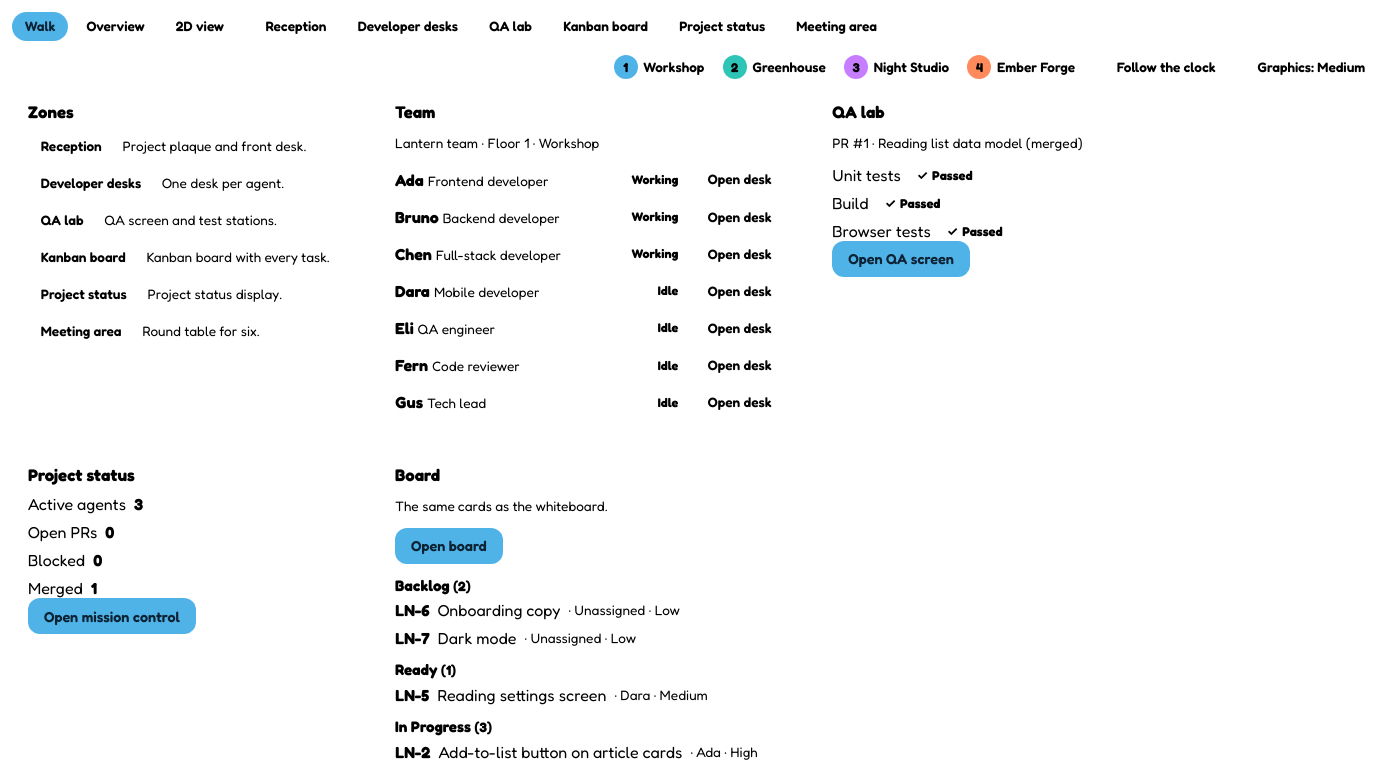
Test: floors and the elevator › lists only the current floor's team in the 2D view
Expected: the text "Ada" is shown, [395,170,424,190]
Expected: the text "Hana" is not shown
Click the button with aria-label "Floor 2 · Greenhouse" at (777, 68), box [720,52,835,83]
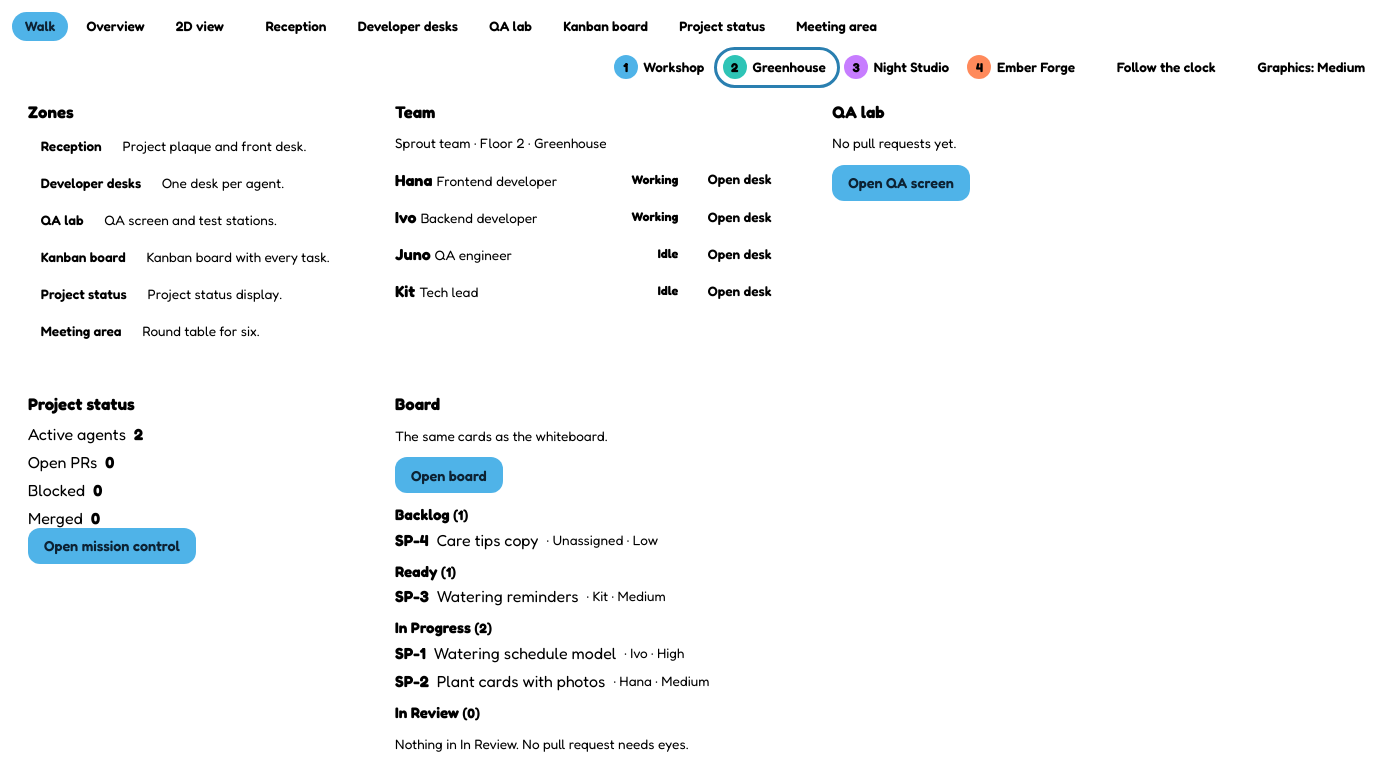
Expected: the text "Sprout team · Floor 2 · Greenhouse" is shown, [395,135,607,151]
Expected: the text "Ada" is gone
Expected: the text "SP-1" is shown, [395,643,426,663]
